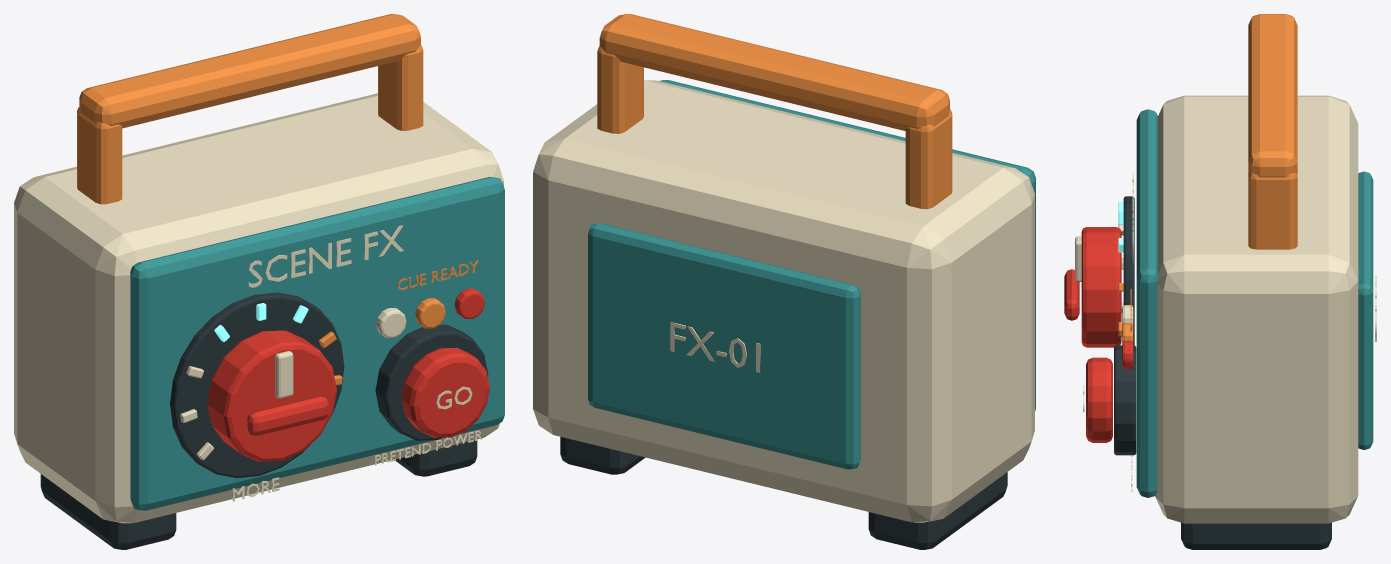
The picture shows the model from 3 angles, left to right: view 1: azimuth 30°, elevation 25°; view 2: azimuth 150°, elevation 25°; view 3: azimuth 270°, elevation 25°; orthographic projection. The views are drawn at different scales.
Visible parts, largest first — view 1: fx_box_shell, fx_box_face, fx_handle, fx_dial_back, fx_red_intensity_dial, fx_red_go_button, fx_go_button_bezel, fx_handle_post, fx_rubber_foot, fx_handle_post.001, fx_dial_grip, fx_header (+6 smaller); view 2: fx_box_shell, fx_back_service_panel, fx_handle, fx_handle_post, fx_rubber_foot, fx_handle_post.001, fx_rubber_foot.001, fx_box_face, fx_back_number; view 3: fx_box_shell, fx_box_face, fx_handle, fx_red_intensity_dial, fx_back_service_panel, fx_rubber_foot.001, fx_handle_post.001, fx_go_button_bezel, fx_red_go_button, fx_dial_back, fx_dial_grip.
Part boxes in pixels (x1,y1,x2,y2): fx_box_shell: [14, 93, 503, 523]; fx_box_face: [130, 177, 504, 510]; fx_handle: [79, 14, 420, 128]; fx_dial_back: [170, 292, 344, 477]; fx_red_intensity_dial: [207, 330, 336, 461]; fx_red_go_button: [401, 347, 489, 437]; fx_go_button_bezel: [375, 324, 488, 440]; fx_handle_post: [77, 107, 122, 204]; fx_rubber_foot: [40, 474, 176, 549]; fx_handle_post.001: [378, 45, 423, 130]; fx_dial_grip: [247, 396, 328, 435]; fx_header: [248, 225, 403, 287]; fx_box_shell: [533, 80, 1034, 522]; fx_back_service_panel: [588, 223, 860, 469]; fx_handle: [599, 14, 949, 130]; fx_handle_post: [905, 109, 952, 209]; fx_rubber_foot: [868, 472, 1007, 549]; fx_handle_post.001: [597, 46, 643, 133]; fx_rubber_foot.001: [560, 436, 645, 474]; fx_box_face: [659, 80, 1035, 411]; fx_back_number: [670, 322, 760, 372]; fx_box_shell: [1155, 95, 1358, 523]; fx_box_face: [1136, 109, 1157, 497]; fx_handle: [1248, 14, 1297, 177]; fx_red_intensity_dial: [1081, 227, 1121, 347]; fx_back_service_panel: [1358, 171, 1373, 449]; fx_rubber_foot.001: [1181, 522, 1331, 549]; fx_handle_post.001: [1248, 172, 1297, 249]; fx_go_button_bezel: [1114, 345, 1136, 455]; fx_red_go_button: [1086, 357, 1112, 442]; fx_dial_back: [1123, 196, 1134, 345]; fx_dial_grip: [1064, 269, 1079, 320].
Bounding box in the file's own units: 0.66 × 0.654 × 0.4753.
